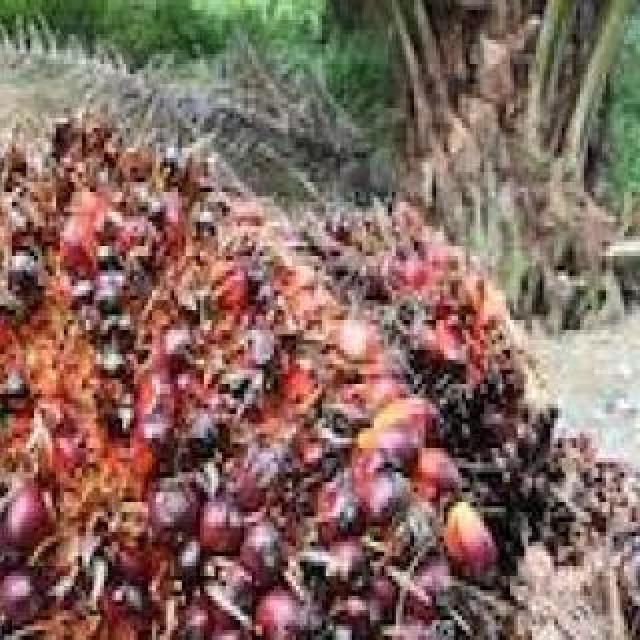Ripe: (0, 76, 552, 640)
